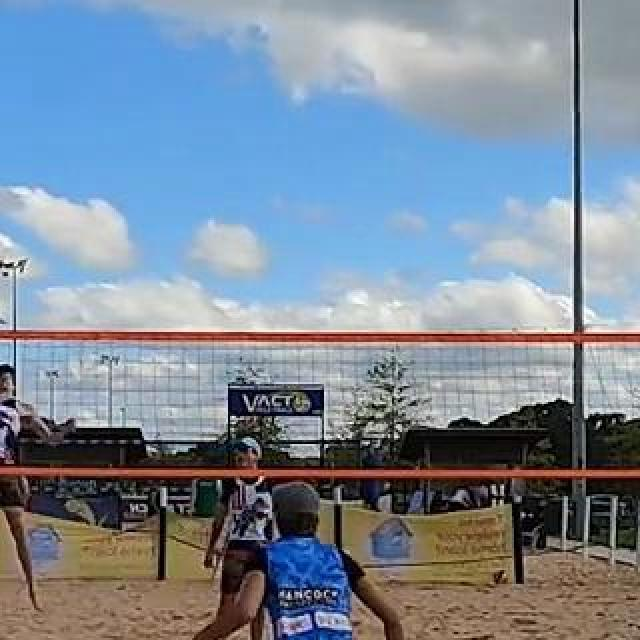volleyball: (493, 568, 509, 584)
